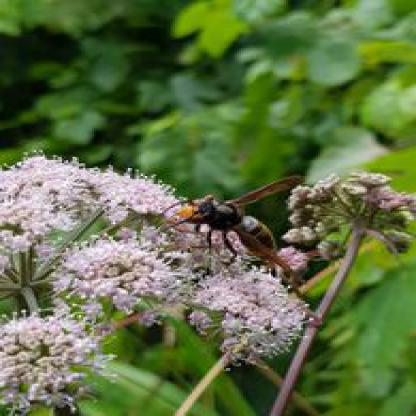Asian Hornet: (162, 172, 309, 272)
